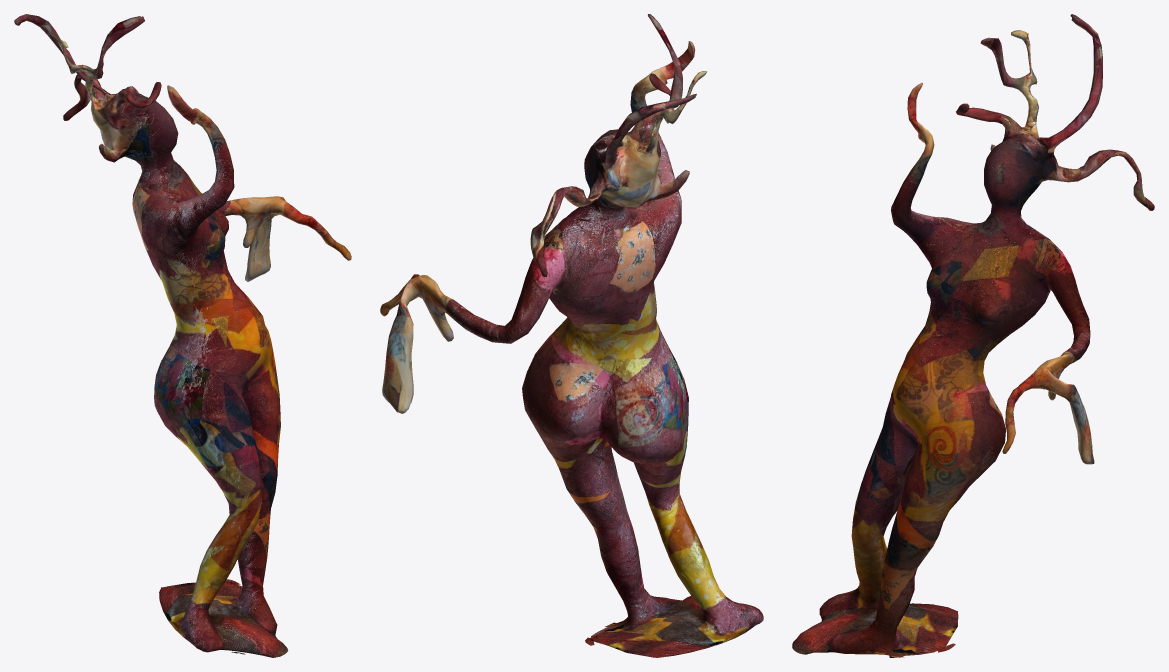
The model's file is sculpture1.glb.
3 views of the same model, side by side, from view 1: azimuth 30°, elevation 25°; view 2: azimuth 150°, elevation 25°; view 3: azimuth 270°, elevation 25° (orthographic). The views are drawn at different scales.
Visible parts, largest first — view 1: tripo_node_e823d894-f008-4793-baba-bfb638141371; view 2: tripo_node_e823d894-f008-4793-baba-bfb638141371; view 3: tripo_node_e823d894-f008-4793-baba-bfb638141371.
Boxes of the visible parts, <box> form: tripo_node_e823d894-f008-4793-baba-bfb638141371: <box>14,14,351,657</box>; tripo_node_e823d894-f008-4793-baba-bfb638141371: <box>380,14,763,657</box>; tripo_node_e823d894-f008-4793-baba-bfb638141371: <box>792,14,1154,657</box>.
Bounding box in the file's own units: 0.5429 × 0.9933 × 0.5556.
Materials: 1 (1 with a texture image).
